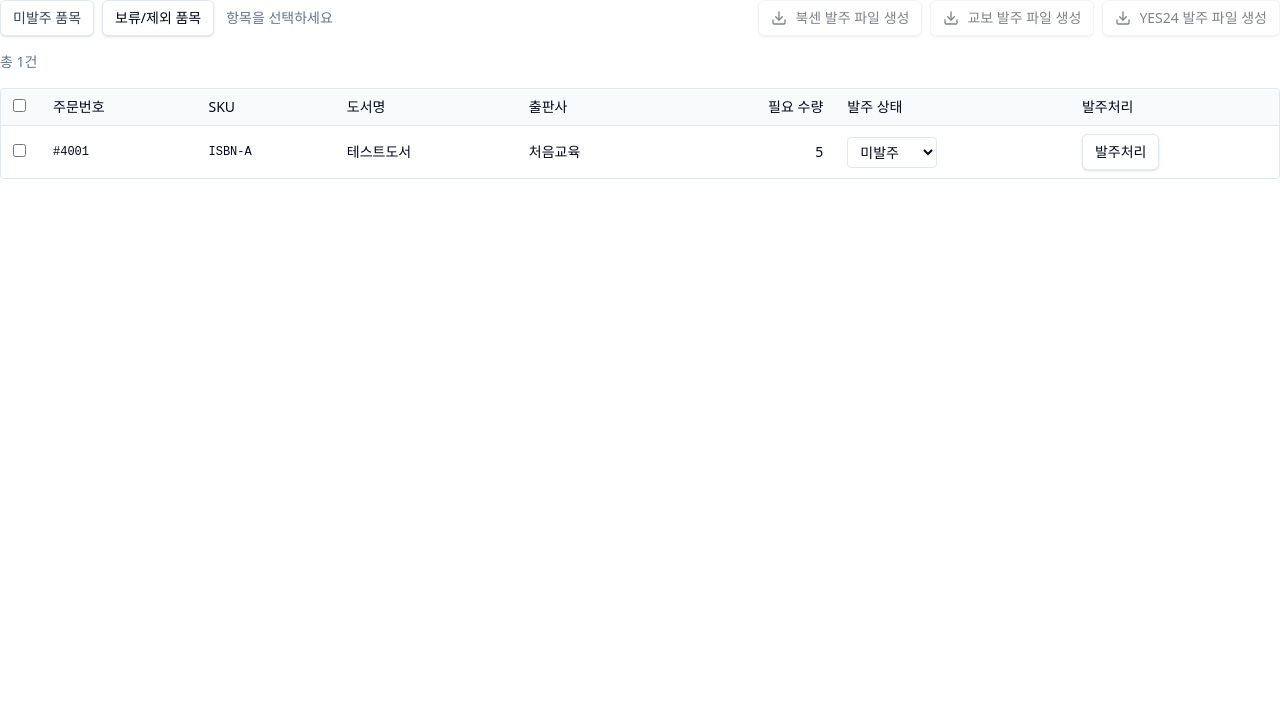
Test: UnorderedItemsTab — 발주처리 모달 (SPEC-ORDER-025) › AC-LCONF-101: opens the modal and shows title/SKU/quantity
The width and height of the screenshot is (1280, 720).
Click the button "발주처리".
click(1121, 152)  # box [1082, 134, 1160, 170]
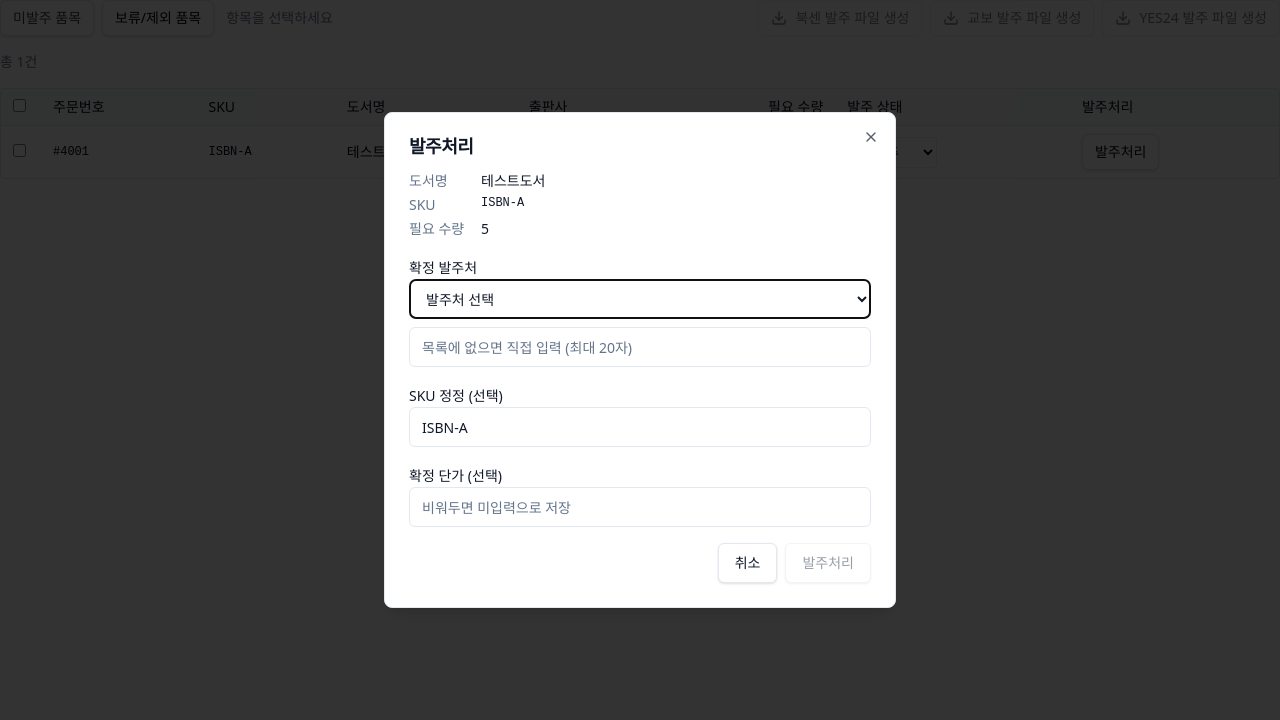
Check: the dialog is shown, box [384, 112, 896, 608]
Check: the text "테스트도서" is shown, box [481, 171, 545, 191]
Check: the text "ISBN-A" is shown, box [481, 195, 524, 215]
